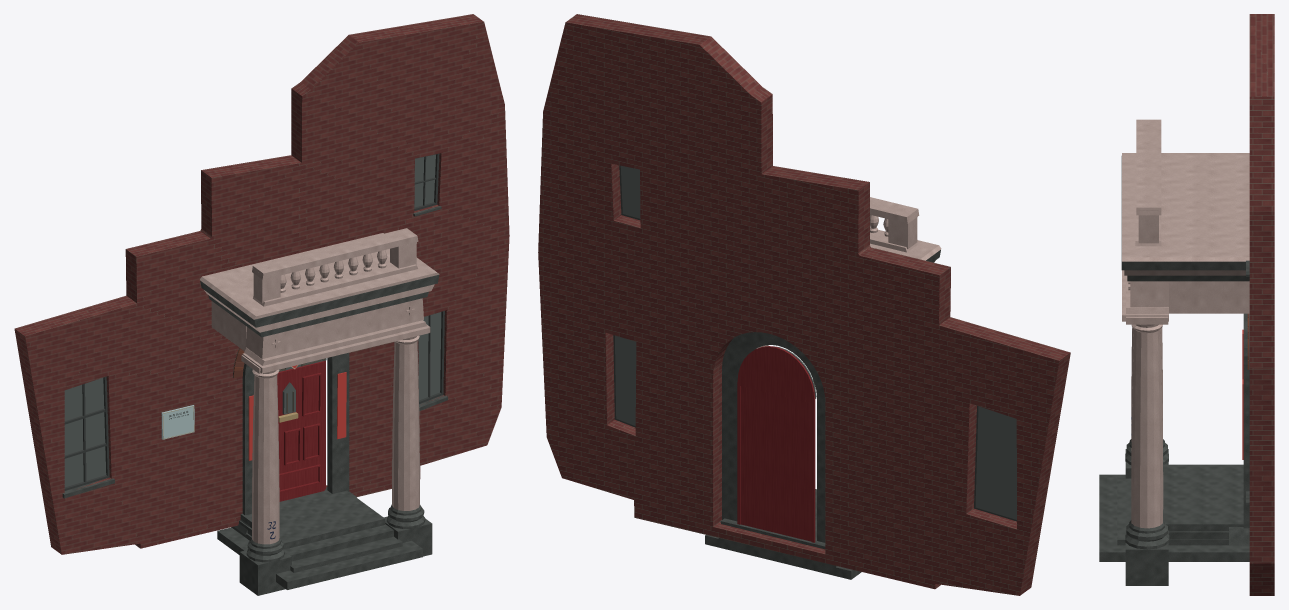
File: lod-source.glb
3 renders of one model, left to right at view 1: azimuth 30°, elevation 25°; view 2: azimuth 150°, elevation 25°; view 3: azimuth 270°, elevation 25°, orthographic. The views are drawn at different scales.
Visible parts, largest first — view 1: 新华路329弄32号乙花园住宅双柱门廊; view 2: 新华路329弄32号乙花园住宅双柱门廊; view 3: 新华路329弄32号乙花园住宅双柱门廊.
Boxes of the visible parts, x1=… form: 新华路329弄32号乙花园住宅双柱门廊: x1=14, y1=14, x2=509, y2=595; 新华路329弄32号乙花园住宅双柱门廊: x1=538, y1=14, x2=1070, y2=595; 新华路329弄32号乙花园住宅双柱门廊: x1=1099, y1=14, x2=1274, y2=595.
Bounding box in the file's own units: 8.37 × 7.89 × 2.24.
Materials: 16 (4 with a texture image).
